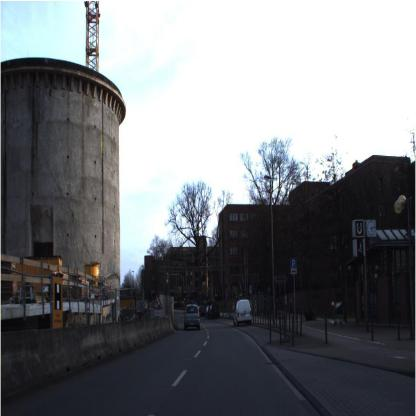danger: (150, 290, 165, 312)
